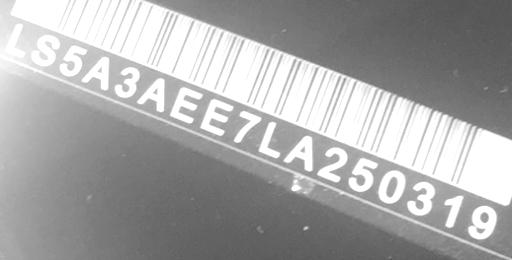letter: (198, 97, 234, 137), (168, 83, 202, 124), (280, 133, 314, 174), (80, 55, 112, 94), (316, 145, 348, 183), (346, 155, 378, 192), (404, 179, 436, 216), (466, 203, 498, 240), (136, 76, 168, 112), (376, 168, 408, 203), (256, 118, 282, 158), (30, 34, 60, 67), (58, 44, 88, 77), (113, 64, 141, 99), (234, 109, 262, 143), (4, 23, 26, 61), (443, 192, 465, 229)
